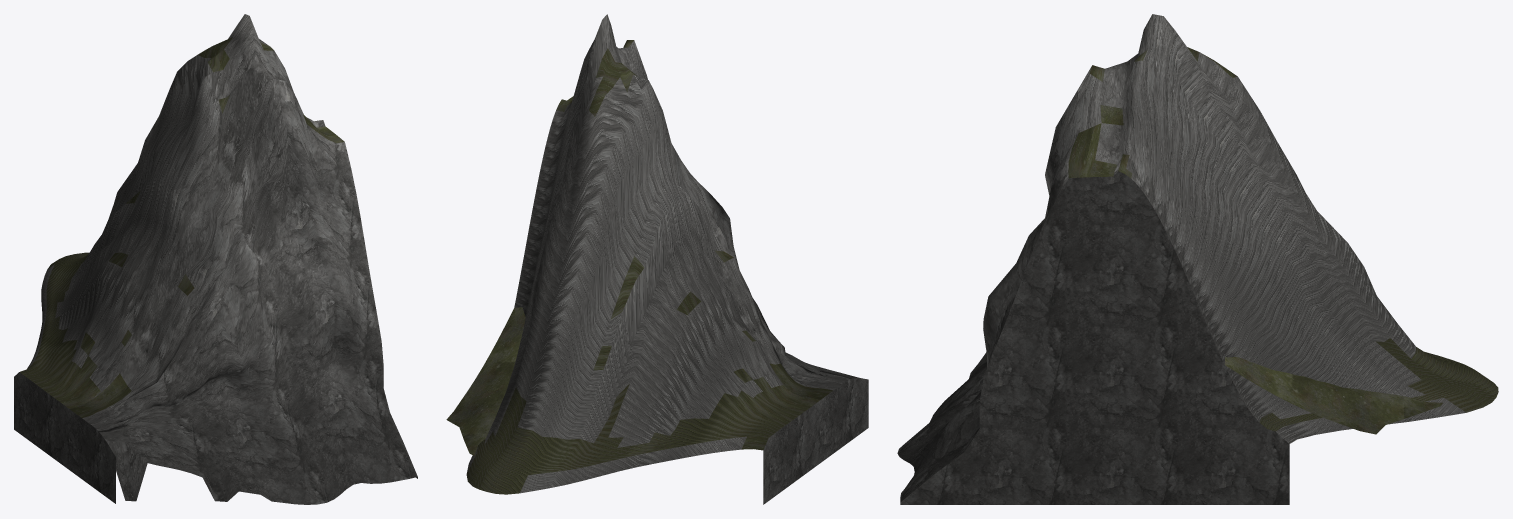
File: seacliff_endcap_left_h5_b_v5_summer.glb
3 renders of one model, left to right at view 1: azimuth 30°, elevation 25°; view 2: azimuth 150°, elevation 25°; view 3: azimuth 270°, elevation 25°, orthographic. The views are drawn at different scales.
Parts seen in each view (by area): view 1: seacliff_endcap_left_h5_b; view 2: seacliff_endcap_left_h5_b; view 3: seacliff_endcap_left_h5_b.
Part boxes in pixels (box(x1,y1,x2,y2)): seacliff_endcap_left_h5_b: box(14, 14, 417, 504); seacliff_endcap_left_h5_b: box(446, 14, 868, 504); seacliff_endcap_left_h5_b: box(897, 14, 1498, 504).
Bounding box in the file's own units: 6 × 9.05 × 10.75.
Materials: 2 (2 with a texture image).
